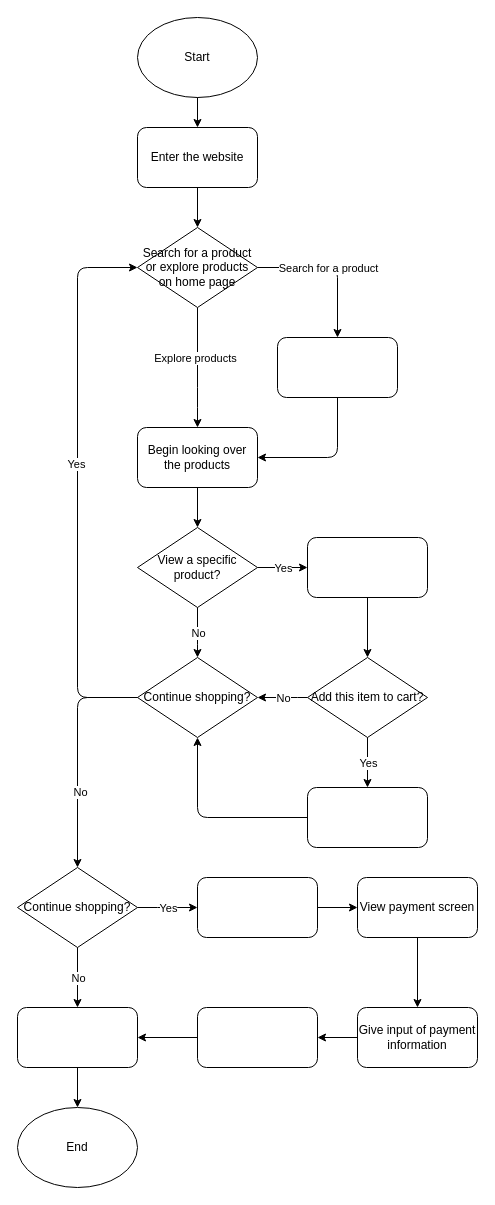
This 495x1205 diagram has some shape labels left out. Each missing label, with the centre of its shape:
Added to cart confirmation: pixel 367 817
Leave the website: pixel 77 1037
Order confirmation screen and email: pixel 257 1037
Product webpage opens: pixel 367 567
Provide input to the website of their search: pixel 337 367
View cart screen: pixel 257 907
